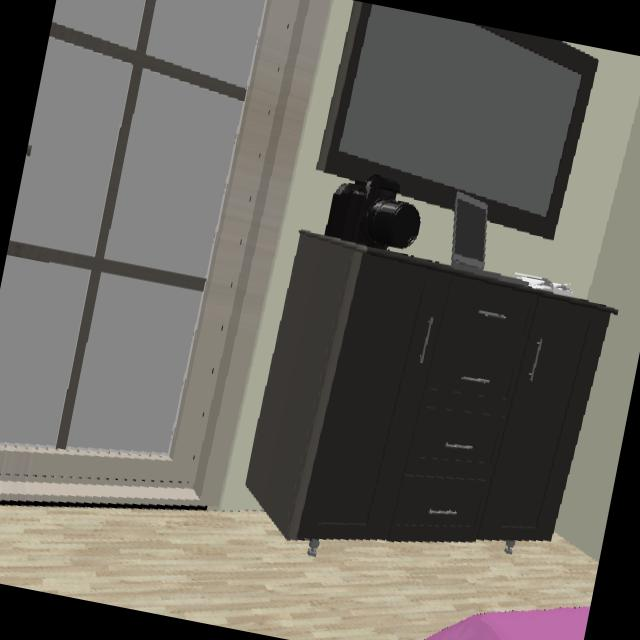book: (516, 274, 573, 297)
cabinet: (246, 232, 614, 541)
laptop: (451, 192, 501, 278)
